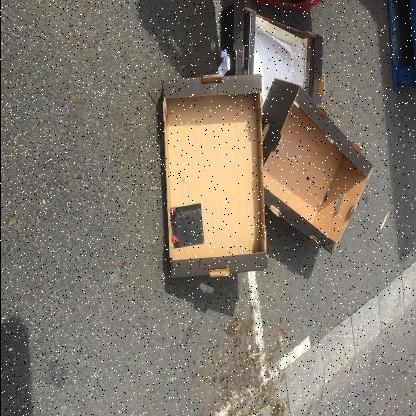cardboard: (158, 70, 266, 280), (260, 78, 373, 256), (219, 2, 324, 112)
